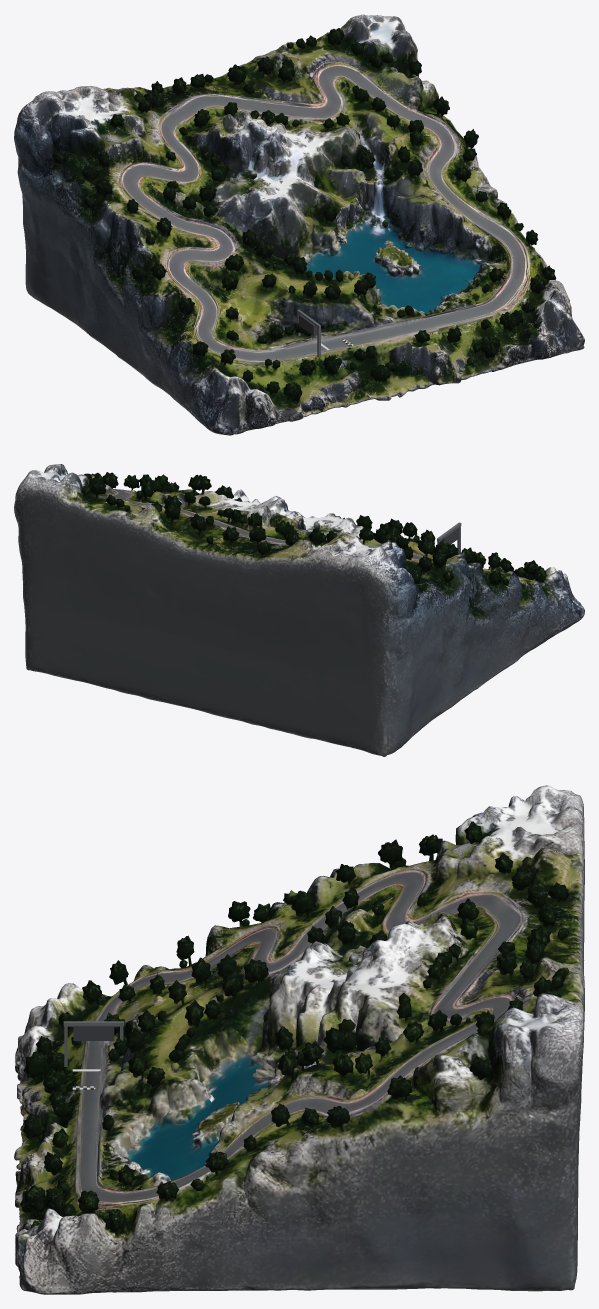
File: alpine_pass_final.glb
3 views of the same model, one above another, from view 1: azimuth 30°, elevation 25°; view 2: azimuth 150°, elevation 25°; view 3: azimuth 270°, elevation 25° (orthographic). The views are drawn at different scales.
Parts seen in each view (by area): view 1: tripo_node_d40e67ac-80be-4949-a473-5994f9749758; view 2: tripo_node_d40e67ac-80be-4949-a473-5994f9749758; view 3: tripo_node_d40e67ac-80be-4949-a473-5994f9749758.
Boxes of the visible parts, <box> form: tripo_node_d40e67ac-80be-4949-a473-5994f9749758: <box>14,14,584,435</box>; tripo_node_d40e67ac-80be-4949-a473-5994f9749758: <box>14,464,584,756</box>; tripo_node_d40e67ac-80be-4949-a473-5994f9749758: <box>14,785,584,1294</box>.
Bounding box in the file's own units: 0.9808 × 0.4835 × 0.9012.
Materials: 1 (1 with a texture image).
